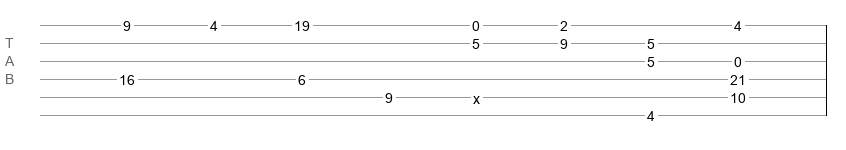0: (472, 18, 480, 28), (734, 54, 742, 64)
10: (730, 90, 746, 100)
16: (119, 72, 135, 82)
19: (294, 18, 310, 28)
2: (560, 18, 568, 28)
21: (730, 72, 746, 82)
4: (210, 18, 218, 28), (647, 108, 655, 118), (734, 18, 742, 28)
5: (472, 36, 480, 46), (647, 36, 655, 46), (647, 54, 655, 64)
6: (298, 72, 306, 82)
9: (123, 18, 131, 28), (385, 90, 393, 100), (560, 36, 568, 46)
x: (473, 91, 480, 99)
